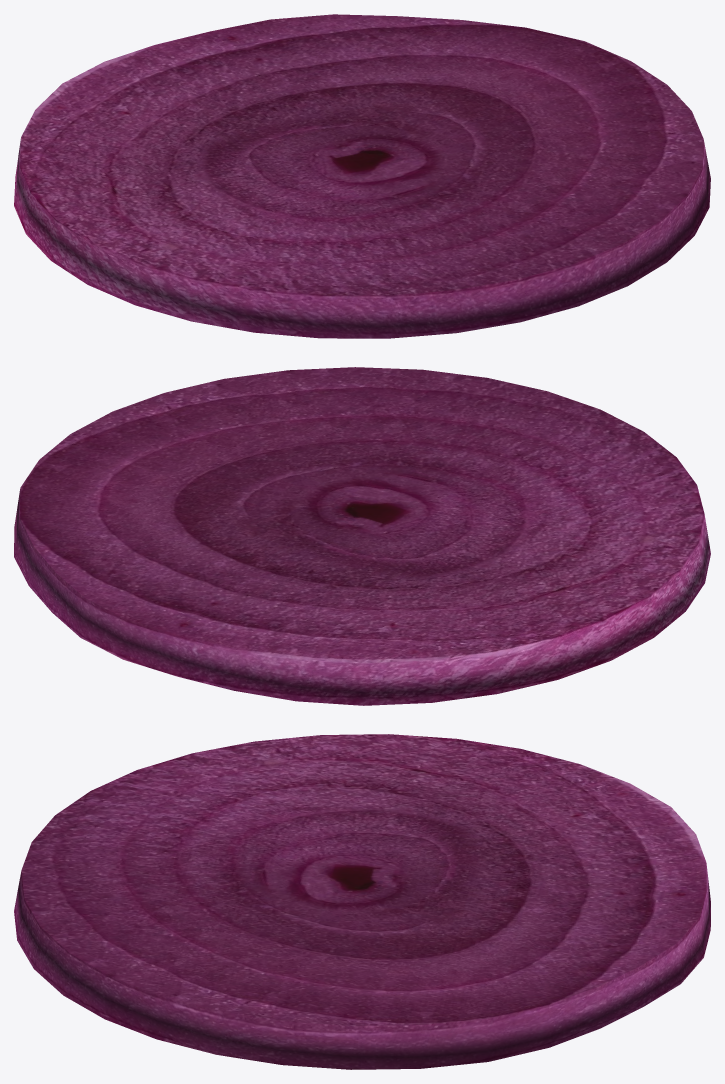
The model's file is beterraba.gltf.
3 views of the same model, one above another, from view 1: azimuth 30°, elevation 25°; view 2: azimuth 150°, elevation 25°; view 3: azimuth 270°, elevation 25° (orthographic).
Visible parts, largest first — view 1: onion.001_Сфера.001; view 2: onion.001_Сфера.001; view 3: onion.001_Сфера.001.
Part boxes in pixels (box(x1,y1,x2,y2)): onion.001_Сфера.001: box(14, 14, 710, 338); onion.001_Сфера.001: box(14, 367, 710, 705); onion.001_Сфера.001: box(14, 734, 710, 1069).
Bounding box in the file's own units: 1.93 × 0.1365 × 1.89.
1 material, 1 textured.
